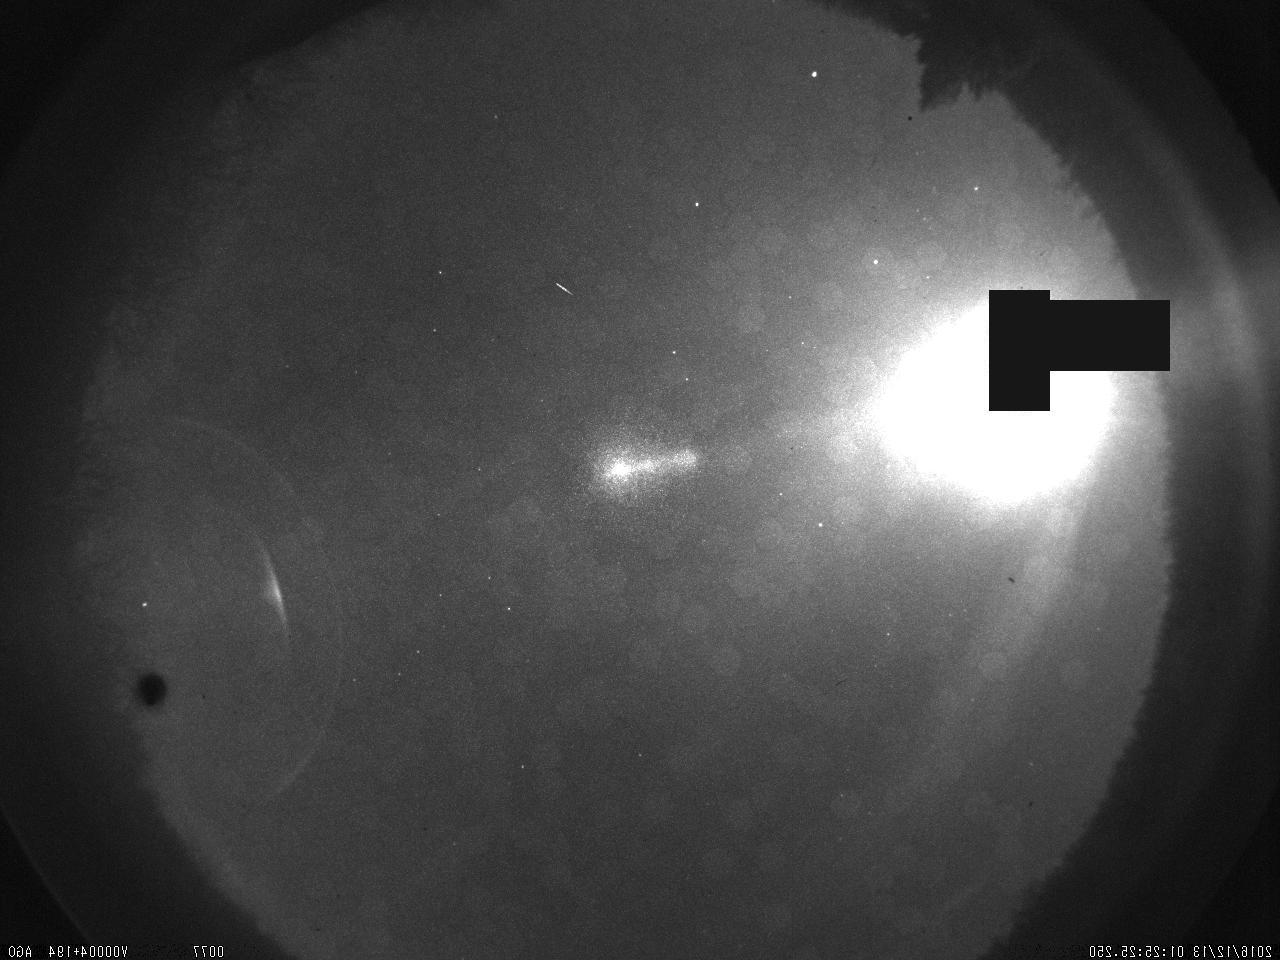meteor: (543, 266, 581, 312)
